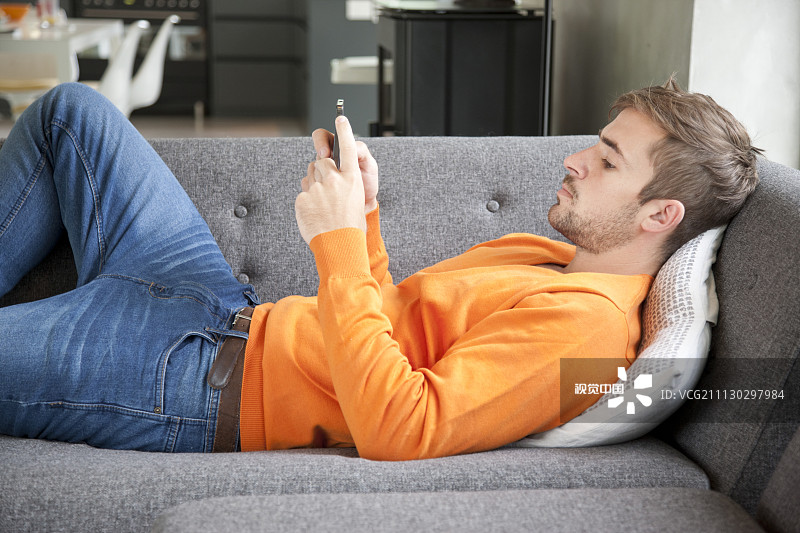reading: (284, 83, 400, 250)
